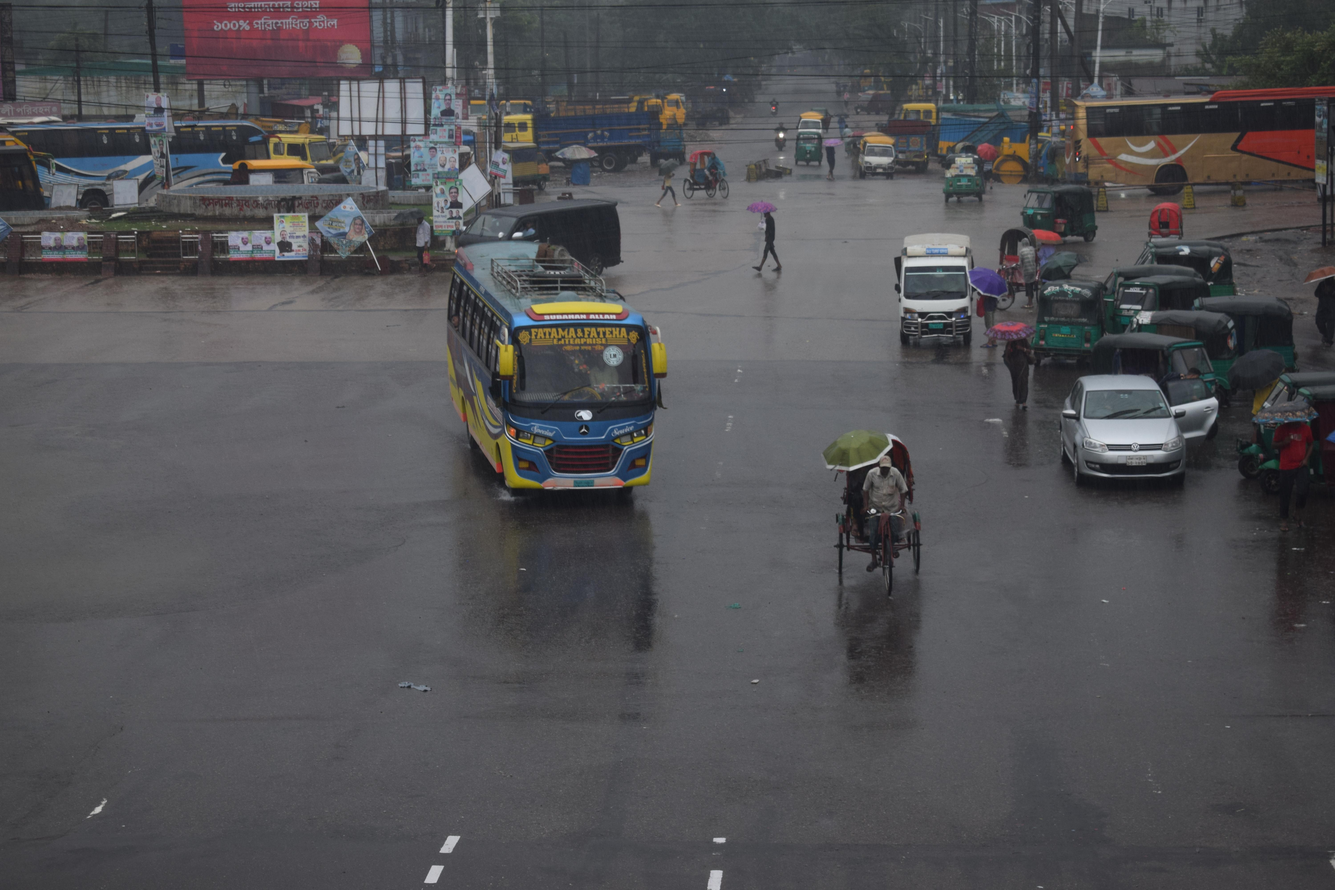Bike: (758, 111, 794, 152)
Bus: (416, 211, 697, 544), (0, 95, 296, 239), (1047, 65, 1335, 208)
Car: (793, 395, 972, 635), (1043, 356, 1214, 527), (860, 213, 1012, 392), (410, 174, 656, 278), (659, 129, 748, 211), (837, 110, 916, 193)
Truck: (474, 79, 672, 184), (259, 104, 356, 197)
